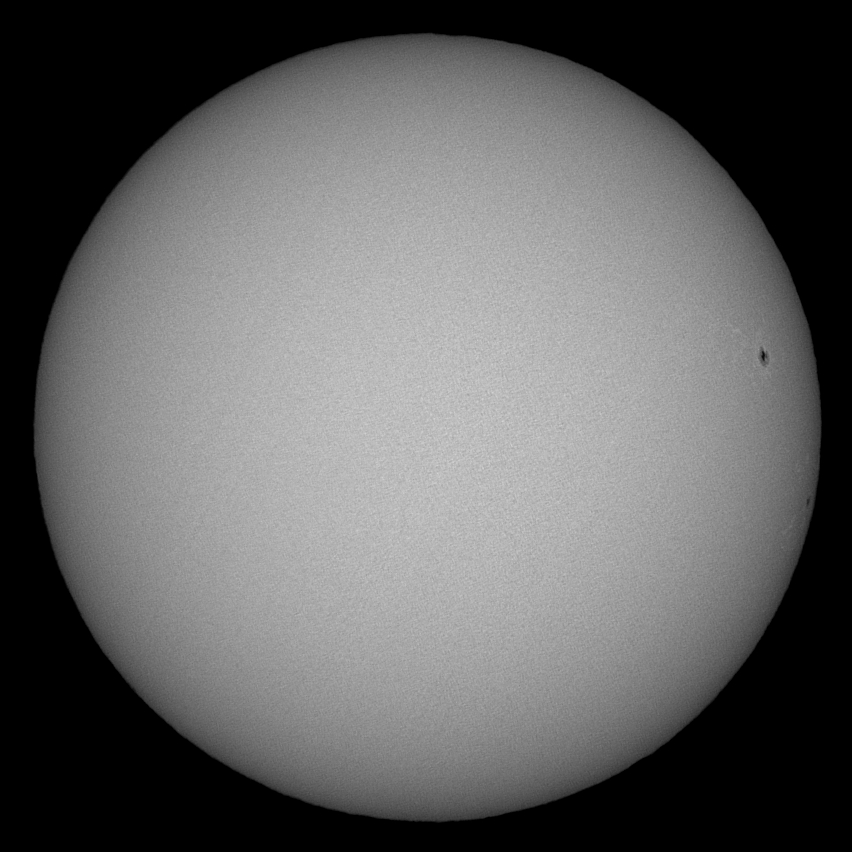sunspot: (755, 343, 773, 370)
